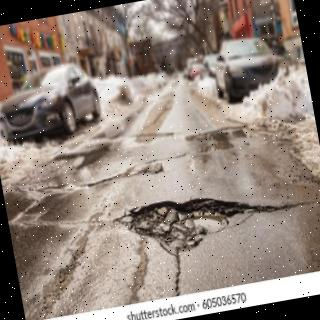pothole: (113, 198, 307, 259), (185, 127, 253, 150), (75, 148, 111, 170)
